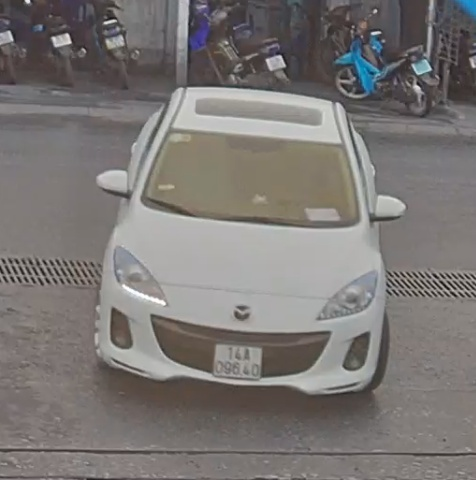vehicle plate: (211, 338, 261, 382)
